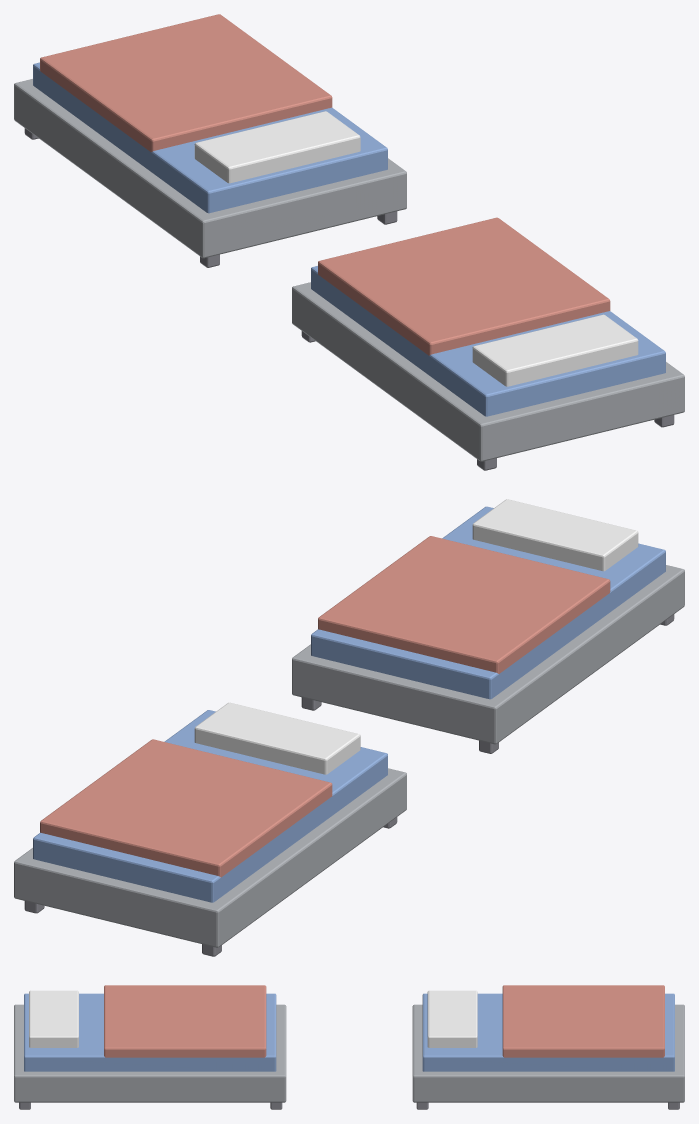
The model's file is bunks_v2.glb.
3 views of the same model, one above another, from view 1: azimuth 30°, elevation 25°; view 2: azimuth 150°, elevation 25°; view 3: azimuth 270°, elevation 25° (orthographic). The views are drawn at different scales.
Visible parts, largest first — view 1: койки; view 2: койки; view 3: койки.
Part boxes in pixels (<box>): койки: <box>14,14,684,470</box>; койки: <box>14,499,684,956</box>; койки: <box>14,985,684,1109</box>.
Bounding box in the file's own units: 1.7 × 0.7005 × 6.72.
